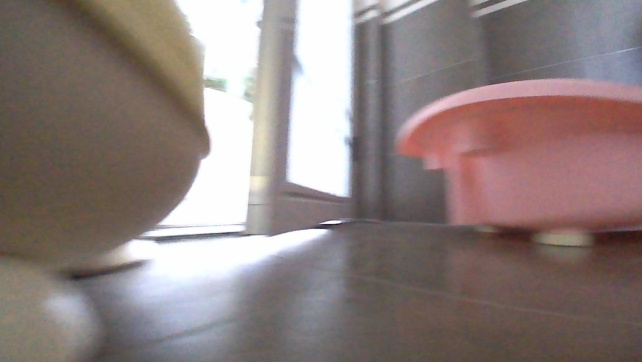door_anno: (240, 0, 365, 248)
